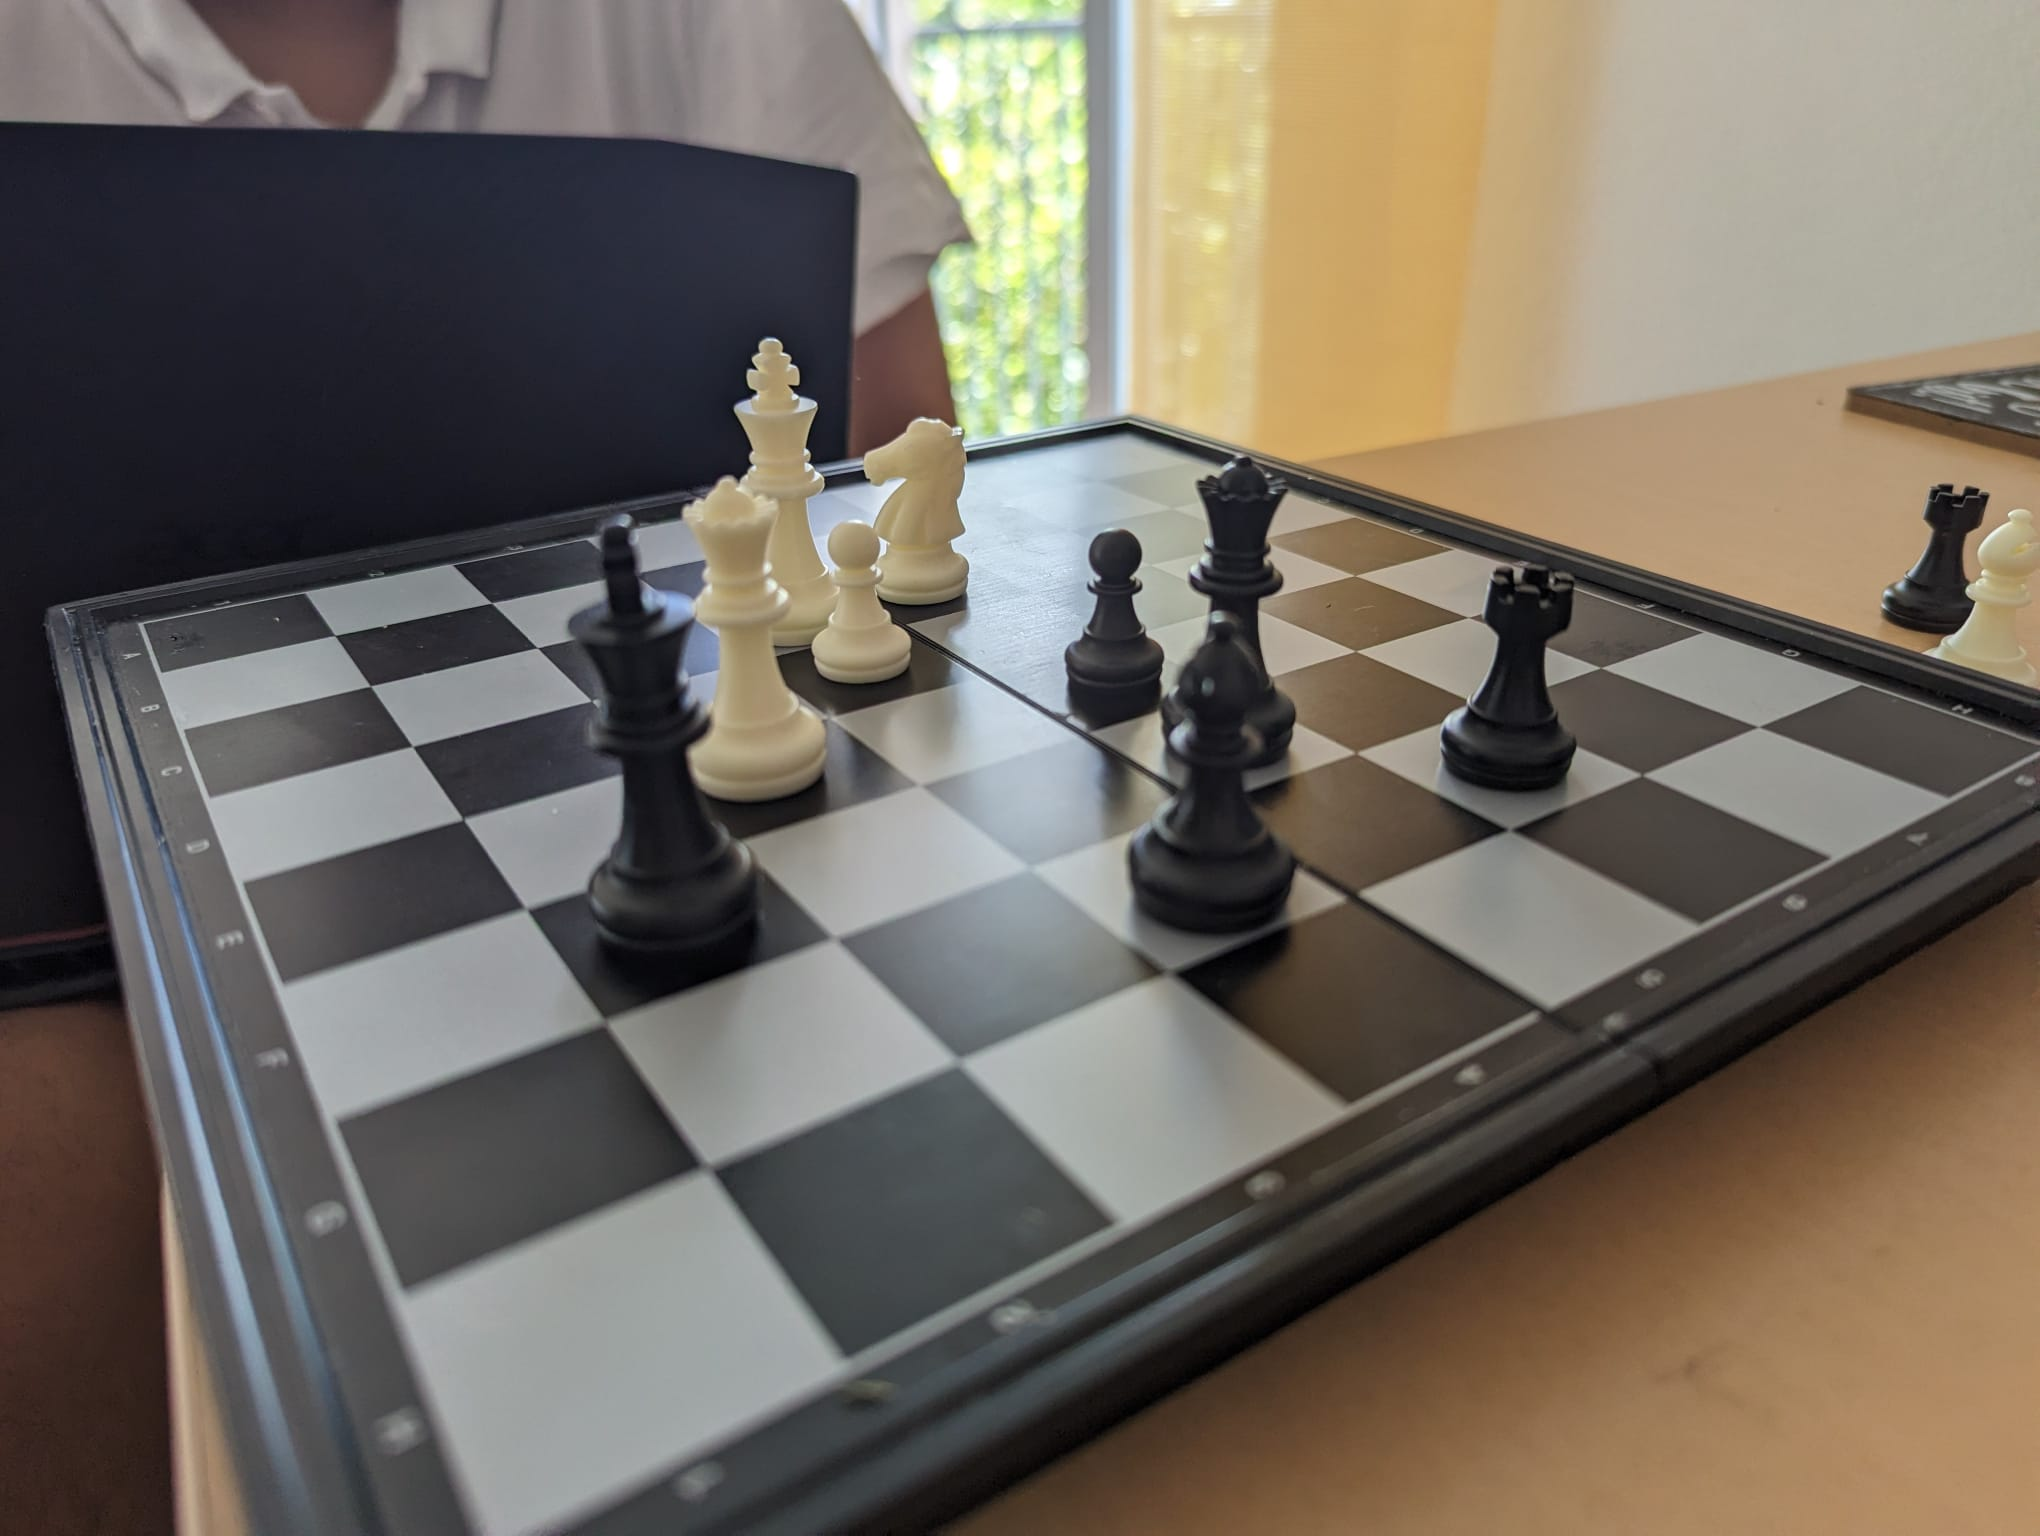BB: (1122, 611, 1289, 933)
BK: (561, 513, 763, 957)
BP: (1053, 524, 1171, 703)
BQ: (1180, 449, 1301, 760)
BR: (1445, 560, 1574, 795)
WK: (719, 326, 837, 641)
WN: (855, 415, 976, 608)
WP: (808, 516, 913, 691)
WQ: (677, 471, 827, 799)
